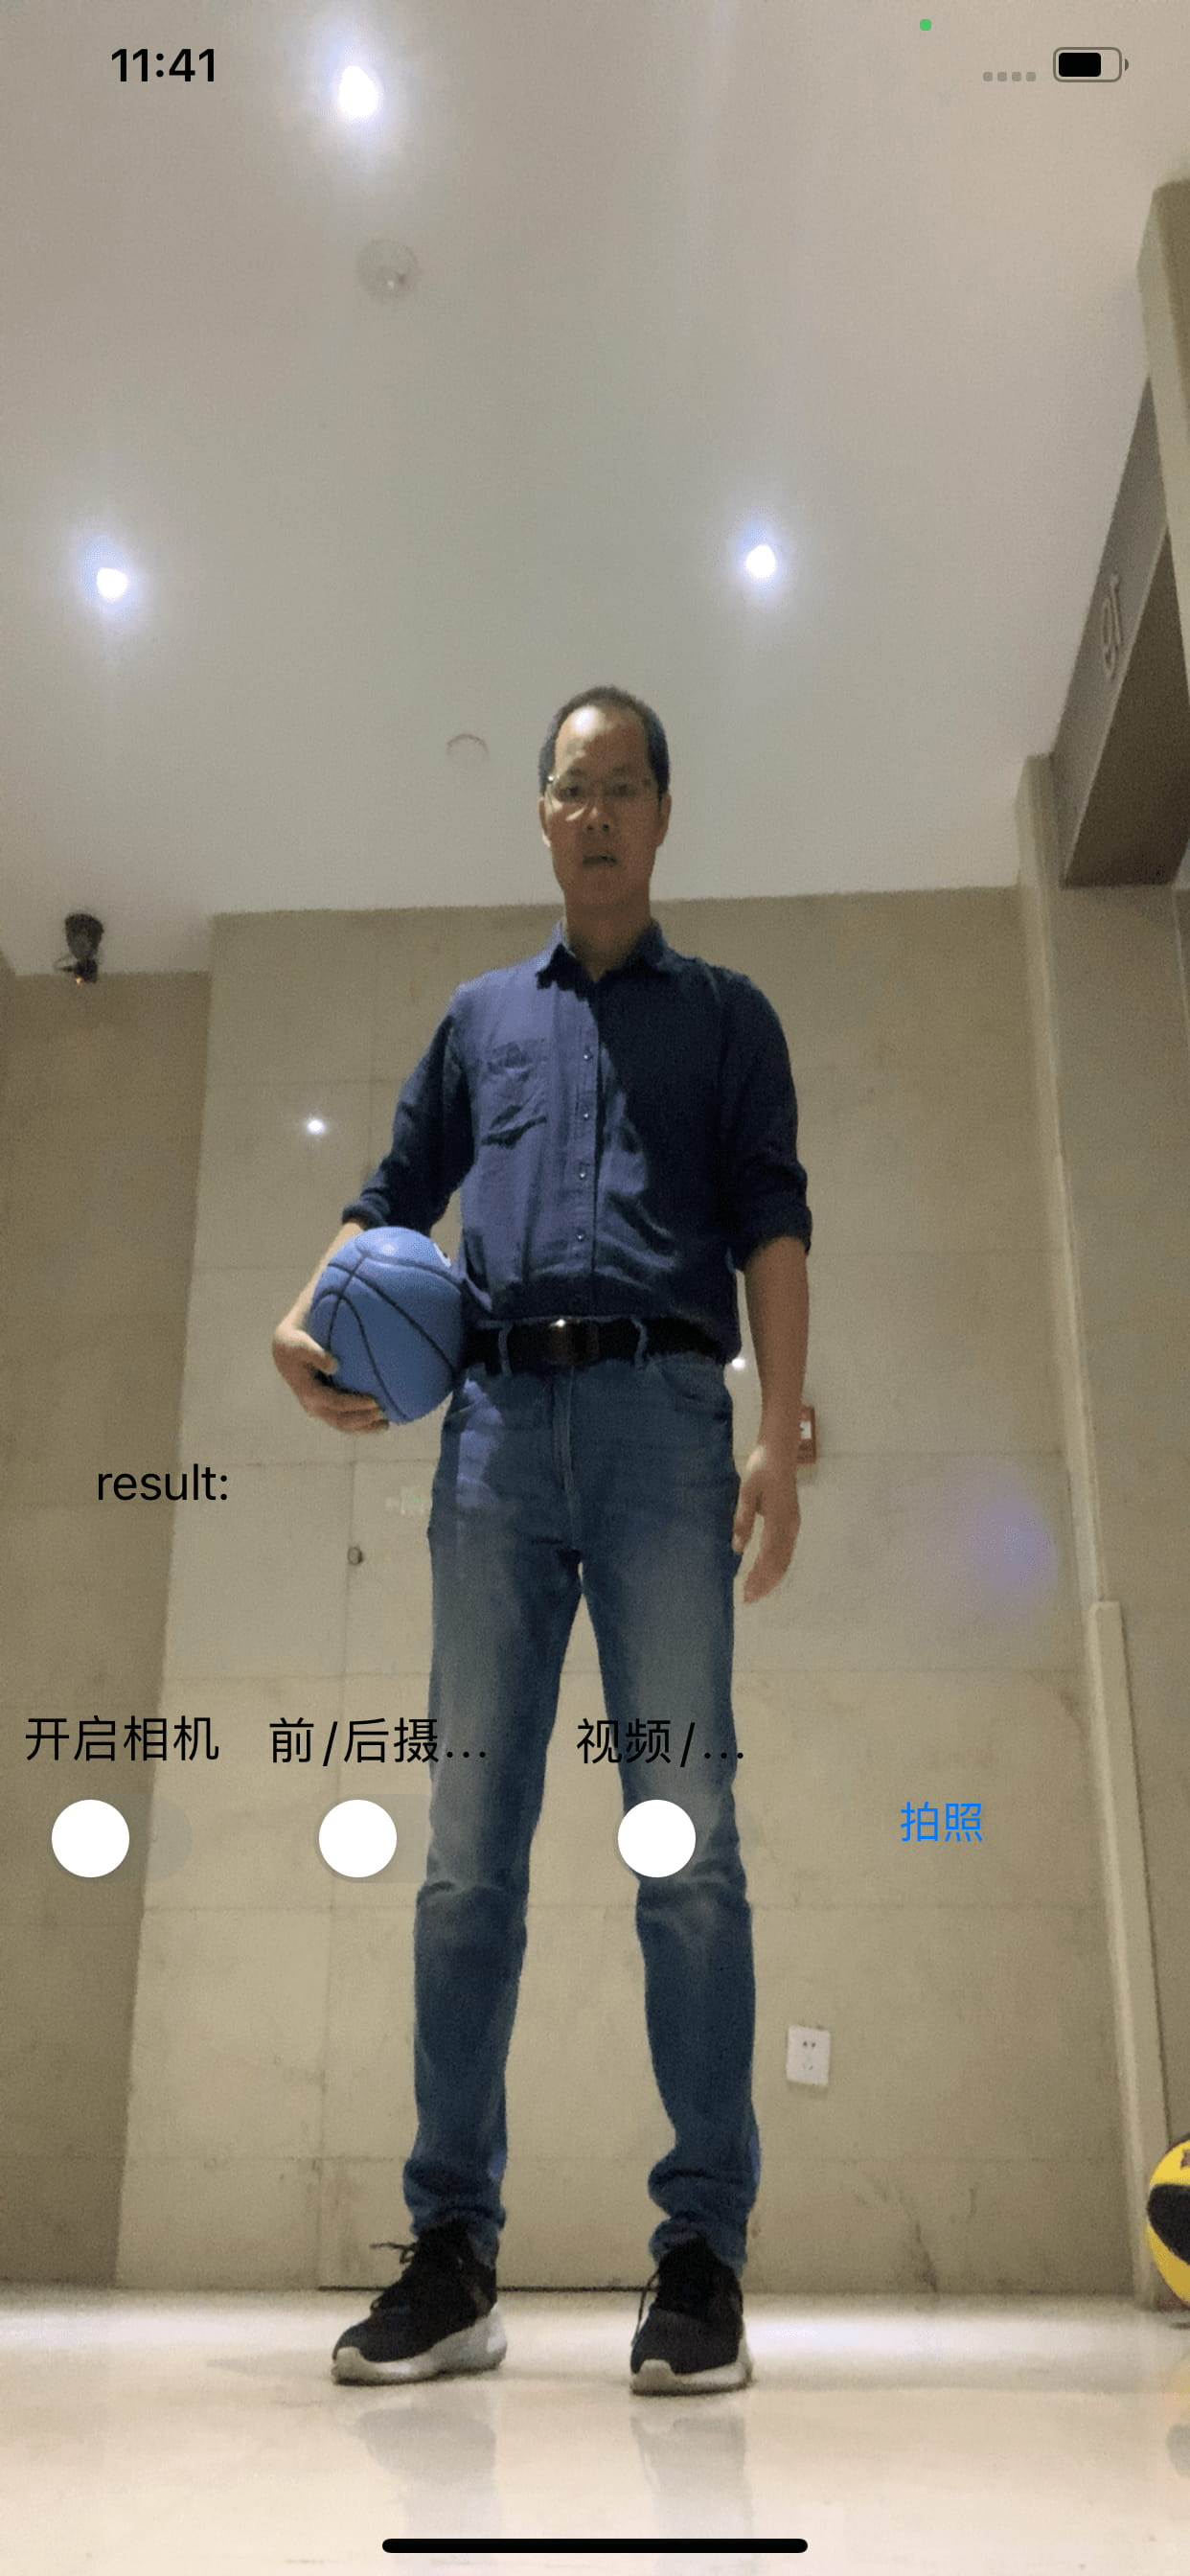ball: (304, 1226, 464, 1428)
